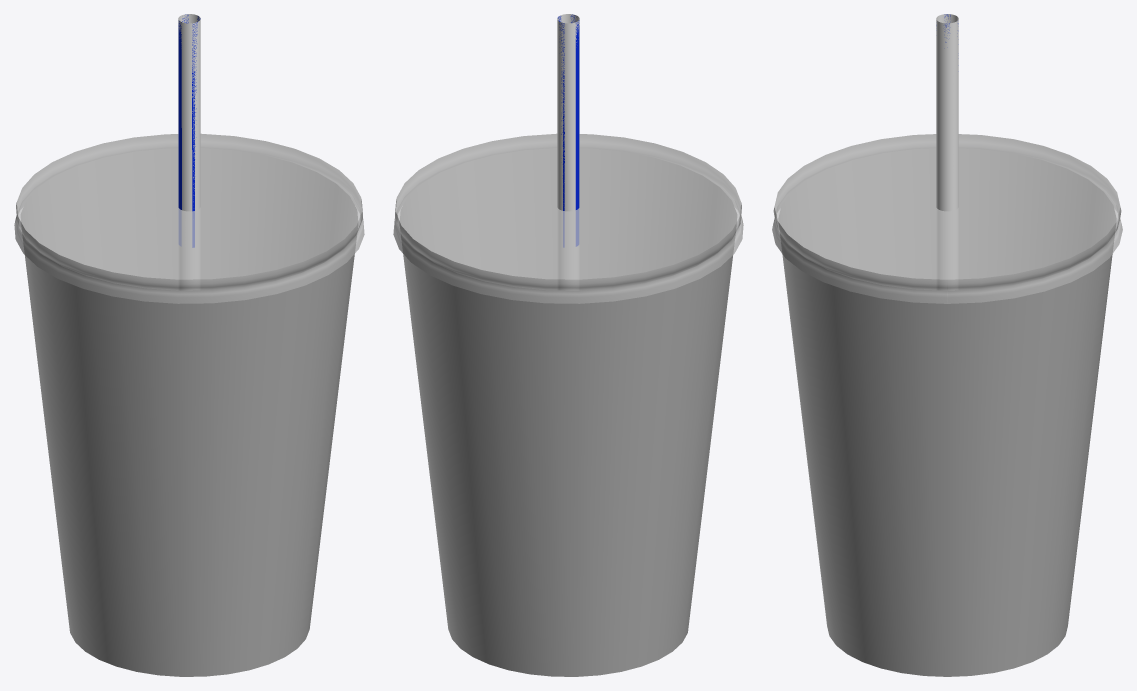
File: Soda Cup w straw2.fbx
3 renders of one model, left to right at view 1: azimuth 30°, elevation 25°; view 2: azimuth 150°, elevation 25°; view 3: azimuth 270°, elevation 25°, orthographic.
Parts seen in each view (by area): view 1: Cup, Lid, Straw; view 2: Cup, Lid, Straw; view 3: Cup, Lid, Straw.
Boxes of the visible parts, x1,y1,x2,y2 form: Cup: (21,148,357,676); Lid: (14,133,364,303); Straw: (178,14,200,290); Cup: (400,148,736,676); Lid: (393,133,743,303); Straw: (557,14,579,290); Cup: (778,148,1116,676); Lid: (772,134,1122,303); Straw: (936,14,958,290).
Size of the model in its own units: 254 by 486 by 254.
